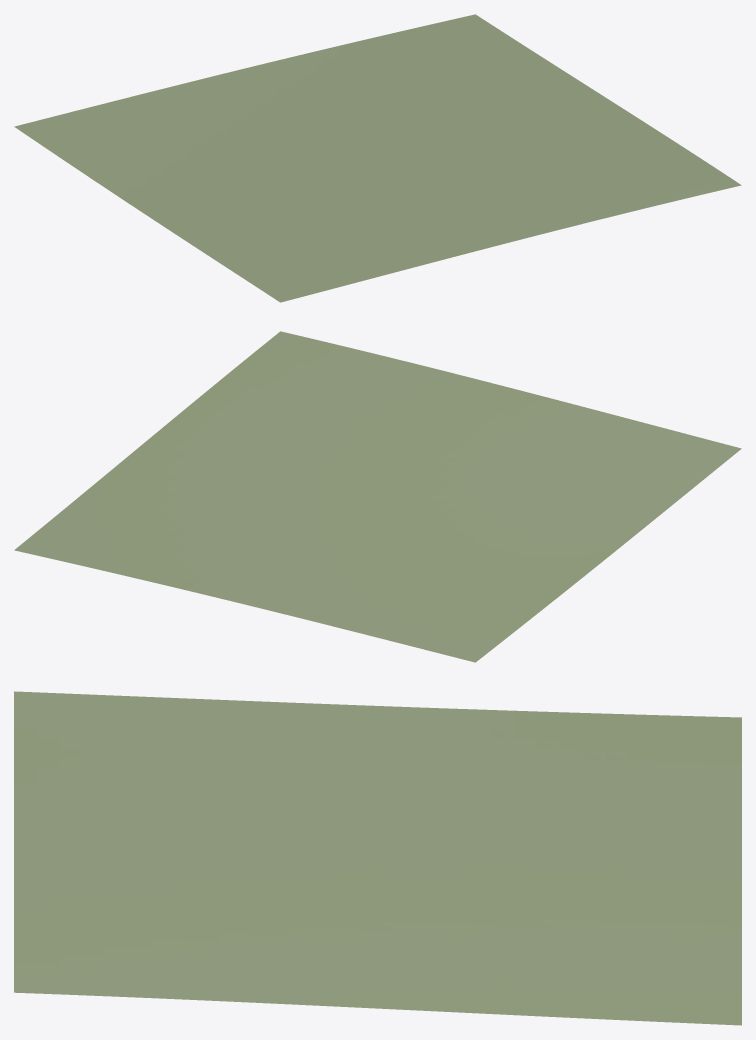
Rendered from expanse-30-0.glb.
3 views of the same model, one above another, from view 1: azimuth 30°, elevation 25°; view 2: azimuth 150°, elevation 25°; view 3: azimuth 270°, elevation 25° (orthographic). The views are drawn at different scales.
Visible parts, largest first — view 1: expanse-30-0; view 2: expanse-30-0; view 3: expanse-30-0.
Boxes of the visible parts, bbox=[...] form: expanse-30-0: bbox=[14, 14, 741, 302]; expanse-30-0: bbox=[14, 331, 741, 662]; expanse-30-0: bbox=[14, 691, 741, 1025].
Size of the model in its own units: 256 by 13 by 256.
